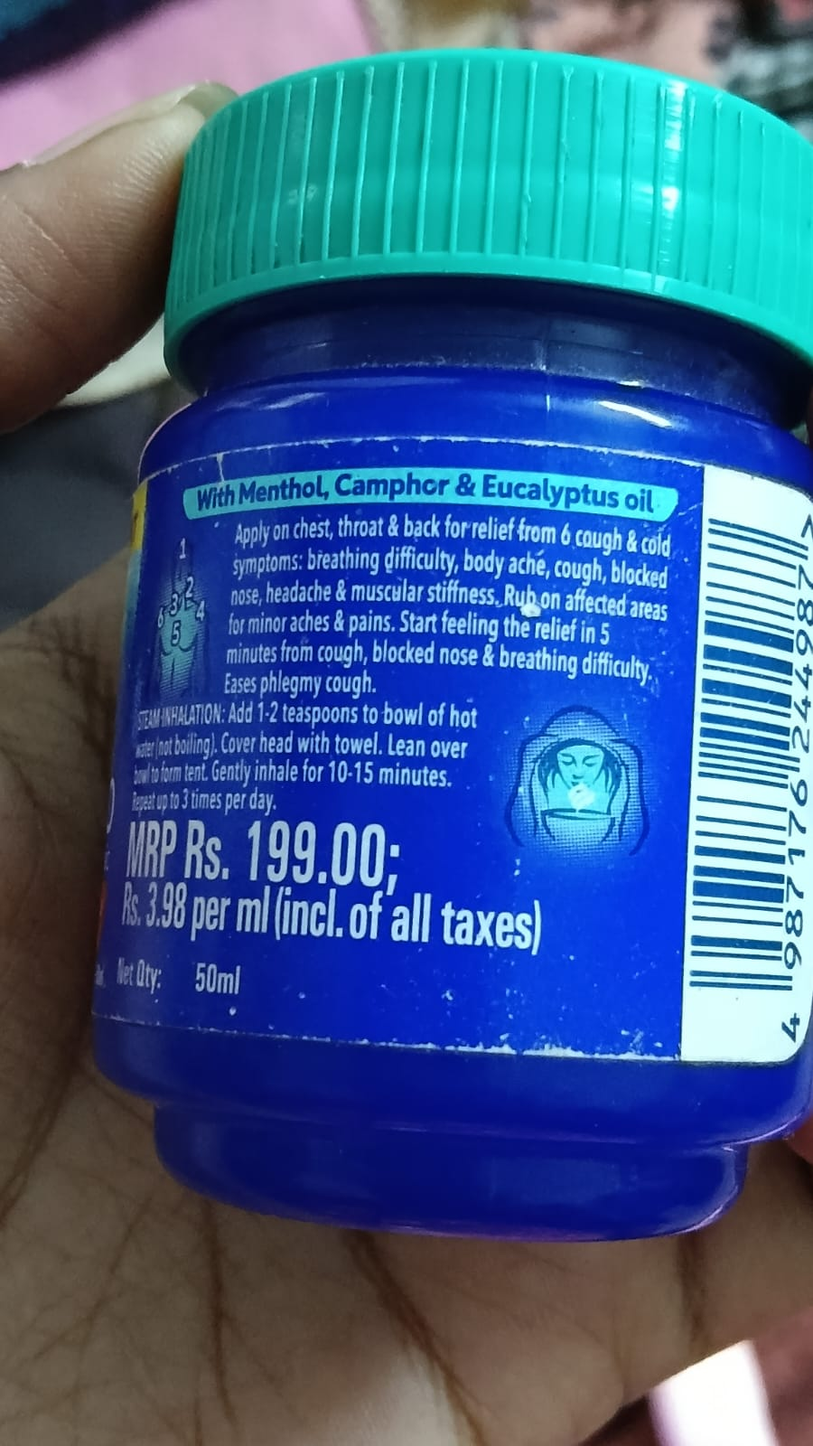mrp: (118, 817, 430, 897)
net_qty: (108, 956, 271, 1012)
